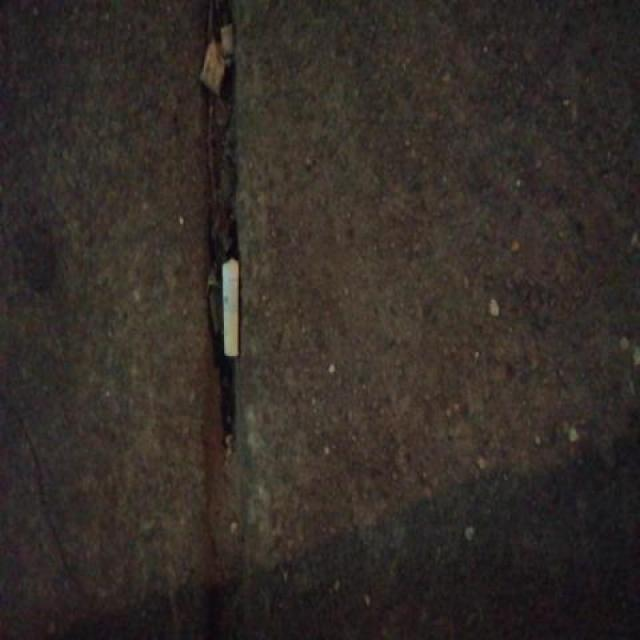non-organic waste: (218, 252, 242, 361)
